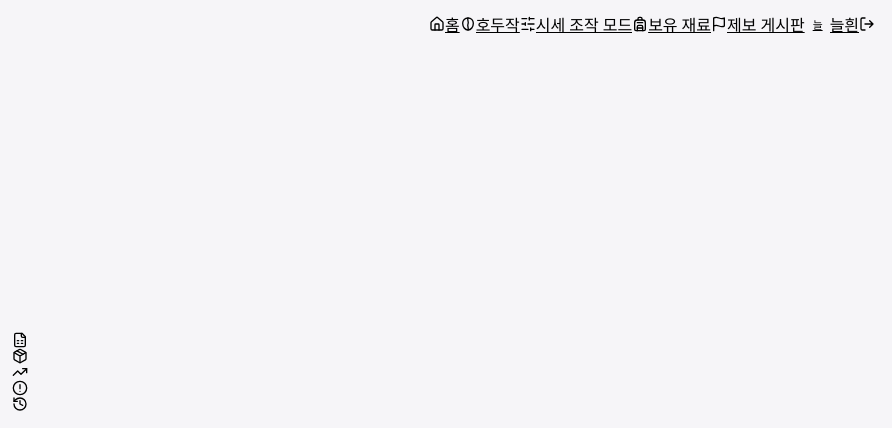
it: AppNav 로그인 상태 › 로그인하면 닉네임과 로그아웃 버튼을 보여 주고, 서버 요청이 실패해도 이 기기에서는 로그아웃한다
What coordinates should you click on to do the following:
click the button named "로그아웃"
I would click on:
 (867, 24)
Its box is x1=859 y1=16 x2=875 y2=32.
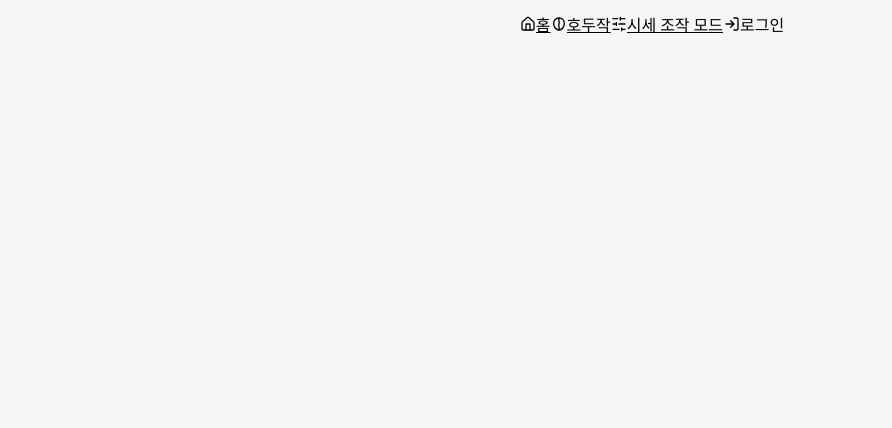
Result: the button "로그인" is shown at x1=724 y1=12 x2=784 y2=36
Result: the link "늘흰" is gone
